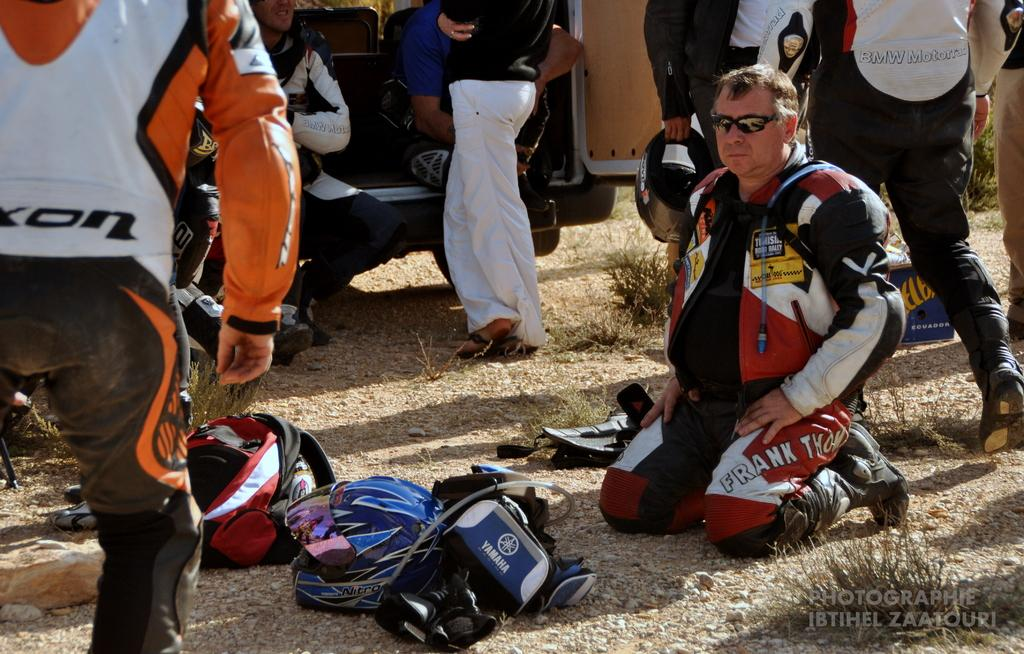helmet: (286, 475, 451, 614), (634, 124, 717, 245)
nohelmet: (710, 64, 799, 180)
